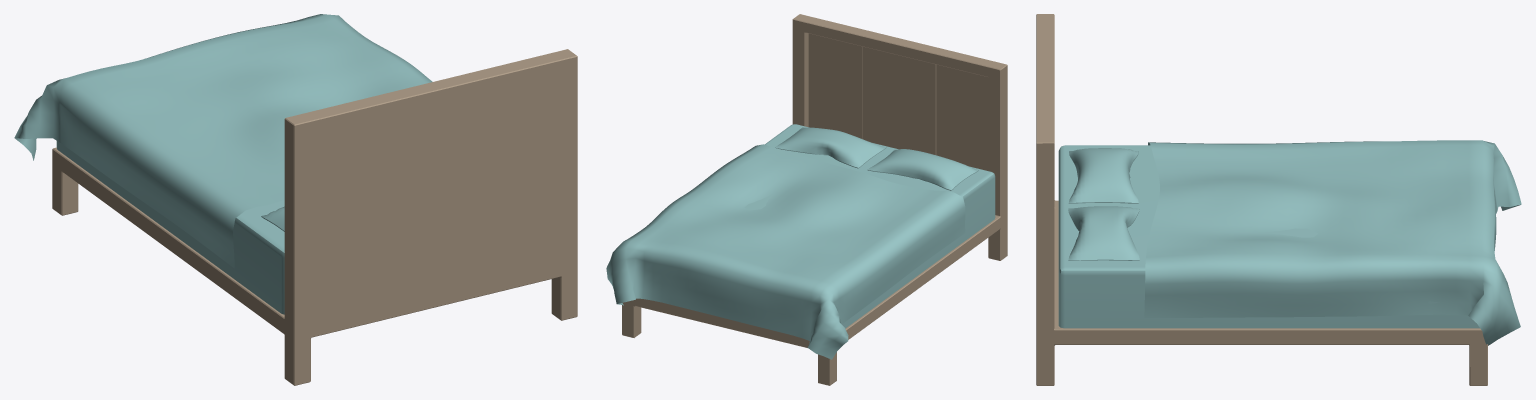
The model's file is sm_bed.fbx.
3 views of the same model, side by side, from view 1: azimuth 30°, elevation 25°; view 2: azimuth 150°, elevation 25°; view 3: azimuth 270°, elevation 25° (orthographic). The views are drawn at different scales.
Visible parts, largest first — view 1: polySurface2, polySurface341, polySurface342; view 2: polySurface341, polySurface2, polySurface342; view 3: polySurface341, polySurface2, polySurface342.
Boxes of the visible parts, x1=… form: polySurface2: x1=52, y1=49, x2=577, y2=385; polySurface341: x1=14, y1=14, x2=432, y2=268; polySurface342: x1=56, y1=102, x2=348, y2=314; polySurface341: x1=606, y1=127, x2=978, y2=359; polySurface2: x1=622, y1=14, x2=1007, y2=385; polySurface342: x1=744, y1=124, x2=995, y2=328; polySurface341: x1=1068, y1=140, x2=1521, y2=345; polySurface2: x1=1036, y1=14, x2=1487, y2=385; polySurface342: x1=1058, y1=145, x2=1479, y2=328.
Bounding box in the file's own units: 377 × 275 × 497.
